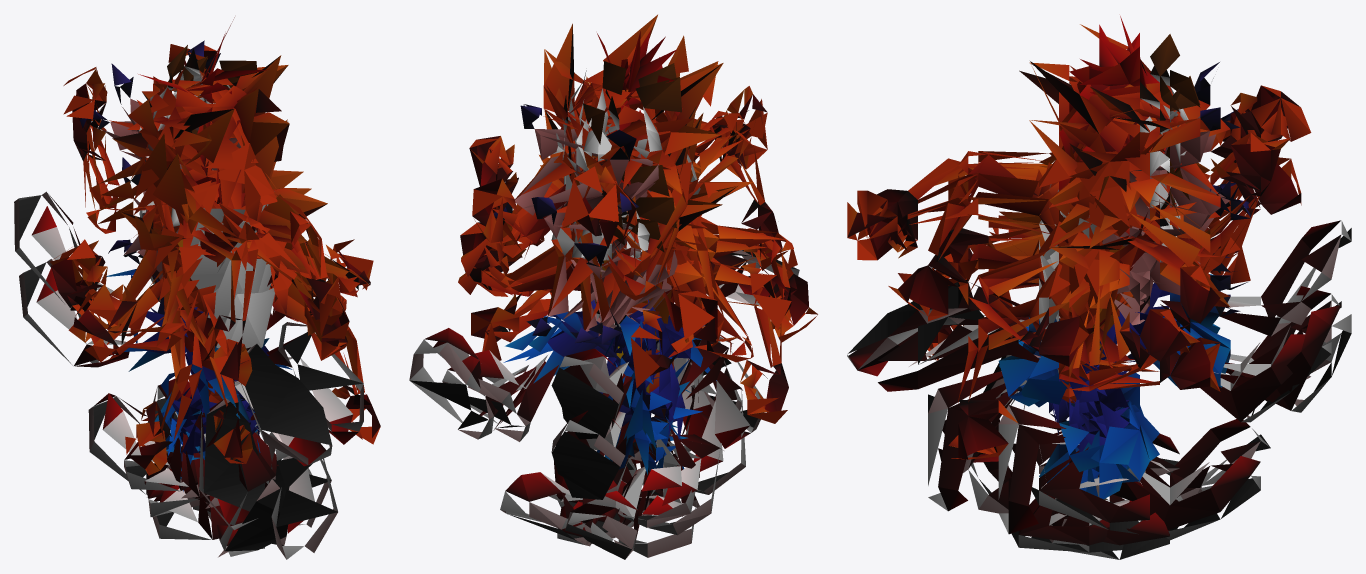
File: run.glb
3 renders of one model, left to right at view 1: azimuth 30°, elevation 25°; view 2: azimuth 150°, elevation 25°; view 3: azimuth 270°, elevation 25°, orthographic. The views are drawn at different scales.
Visible parts, largest first — view 1: Crash.006, Crash.002, Crash.005, Crash.001, Crash.004, Crash.007, Crash.003, Crash.008, Crash; view 2: Crash.001, Crash.006, Crash.005, Crash.002, Crash, Crash.003, Crash.007, Crash.008, Crash.004; view 3: Crash.006, Crash.001, Crash.002, Crash.005, Crash.007, Crash.003, Crash.004, Crash, Crash.008.
Part boxes in pixels (x1,y1,x2,y2): Crash.006: [63, 17, 347, 466]; Crash.002: [19, 55, 363, 444]; Crash.005: [63, 33, 349, 556]; Crash.001: [14, 44, 342, 559]; Crash.004: [50, 169, 380, 557]; Crash.007: [60, 119, 373, 530]; Crash.003: [68, 122, 331, 527]; Crash.008: [124, 176, 346, 516]; Crash: [108, 152, 316, 548]; Crash.001: [469, 31, 767, 439]; Crash.006: [409, 14, 799, 439]; Crash.005: [442, 70, 767, 494]; Crash.002: [472, 23, 788, 499]; Crash: [460, 130, 817, 531]; Crash.003: [471, 109, 797, 559]; Crash.007: [500, 76, 763, 546]; Crash.008: [458, 165, 788, 545]; Crash.004: [526, 200, 753, 557]; Crash.006: [847, 24, 1351, 412]; Crash.001: [857, 16, 1351, 511]; Crash.002: [878, 24, 1341, 404]; Crash.005: [847, 57, 1331, 513]; Crash.007: [968, 117, 1260, 540]; Crash.003: [988, 122, 1270, 534]; Crash.004: [948, 151, 1240, 534]; Crash: [910, 167, 1234, 552]; Crash.008: [988, 166, 1247, 559].
Bounding box in the file's own units: 73.67 × 119 × 107.
